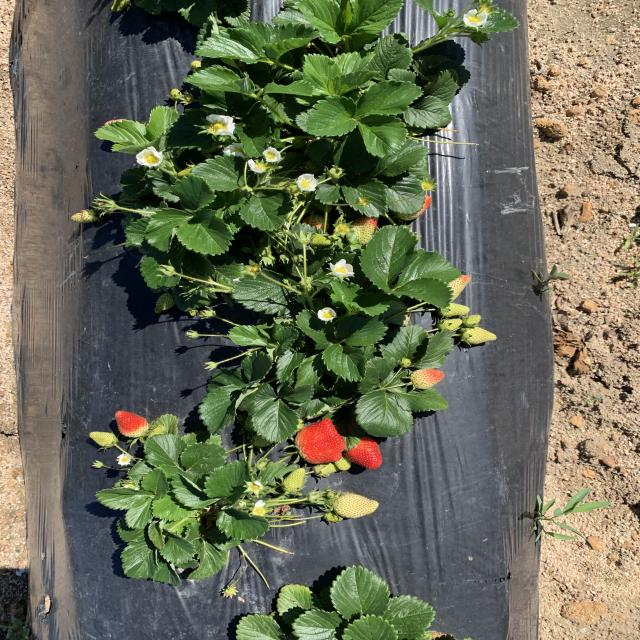unripe: (289, 418, 347, 466), (343, 433, 383, 472), (115, 411, 150, 439)
